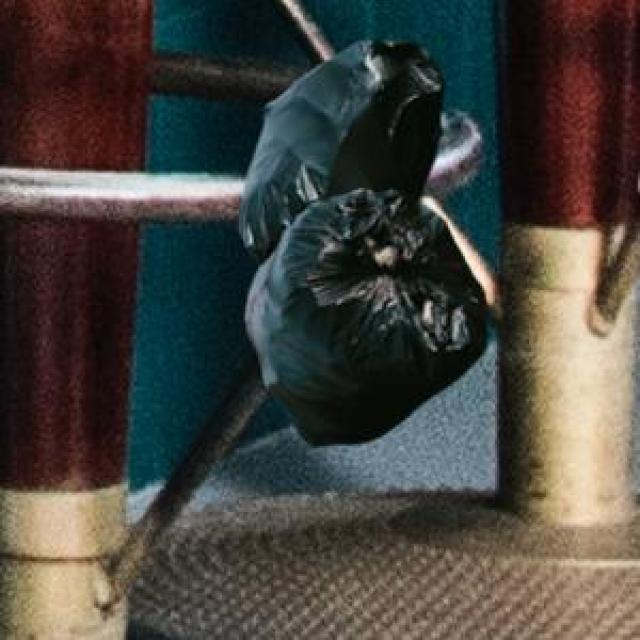garbage_bag: (230, 34, 492, 448)
